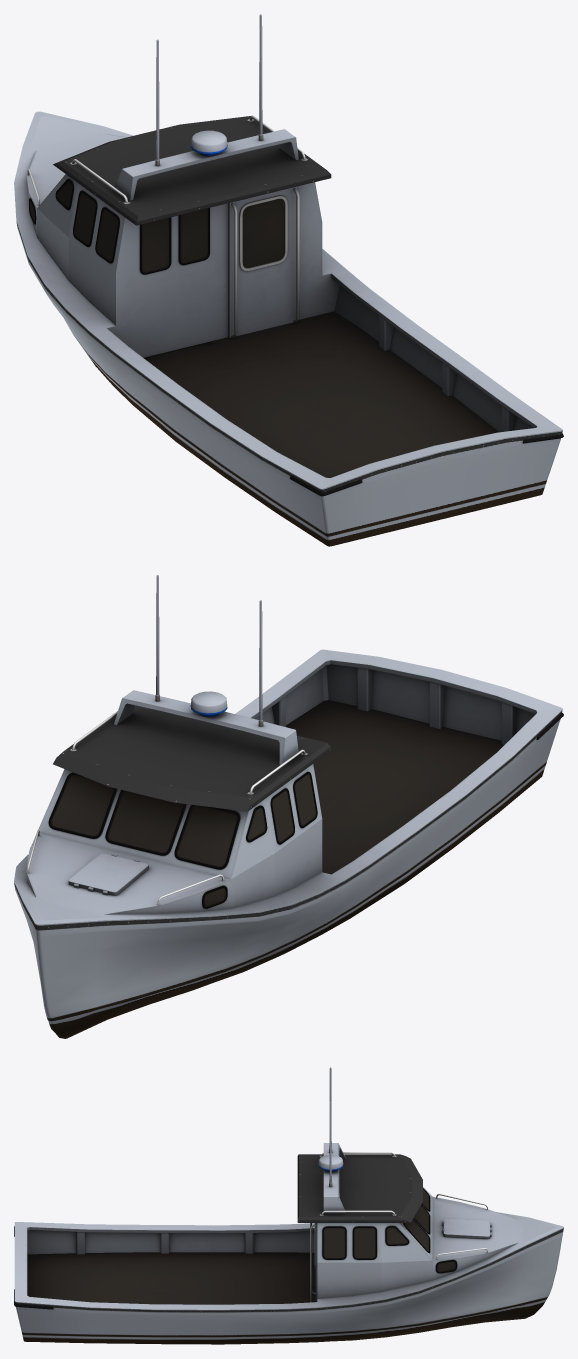
The model's file is Boat05.dae.
3 views of the same model, one above another, from view 1: azimuth 30°, elevation 25°; view 2: azimuth 150°, elevation 25°; view 3: azimuth 270°, elevation 25° (orthographic). The views are drawn at different scales.
Visible parts, largest first — view 1: Boat05; view 2: Boat05; view 3: Boat05.
Boxes of the visible parts, left/top/right/bottom form: Boat05: left=14, top=14, right=563, bottom=546; Boat05: left=14, top=575, right=563, bottom=1038; Boat05: left=14, top=1067, right=563, bottom=1344.
Size of the model in its own units: 498 by 1368 by 642.
Materials: 1 (1 with a texture image).
